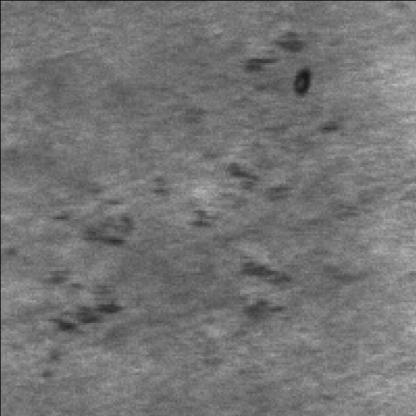rolled-in_scale: (170, 141, 322, 341), (27, 146, 141, 362)
